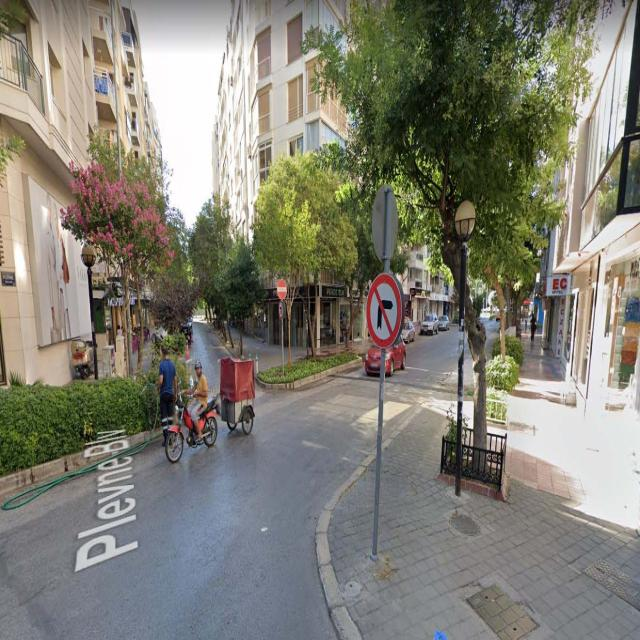girisyok: (276, 279, 286, 302)
sagadonulmez: (367, 275, 399, 343)
